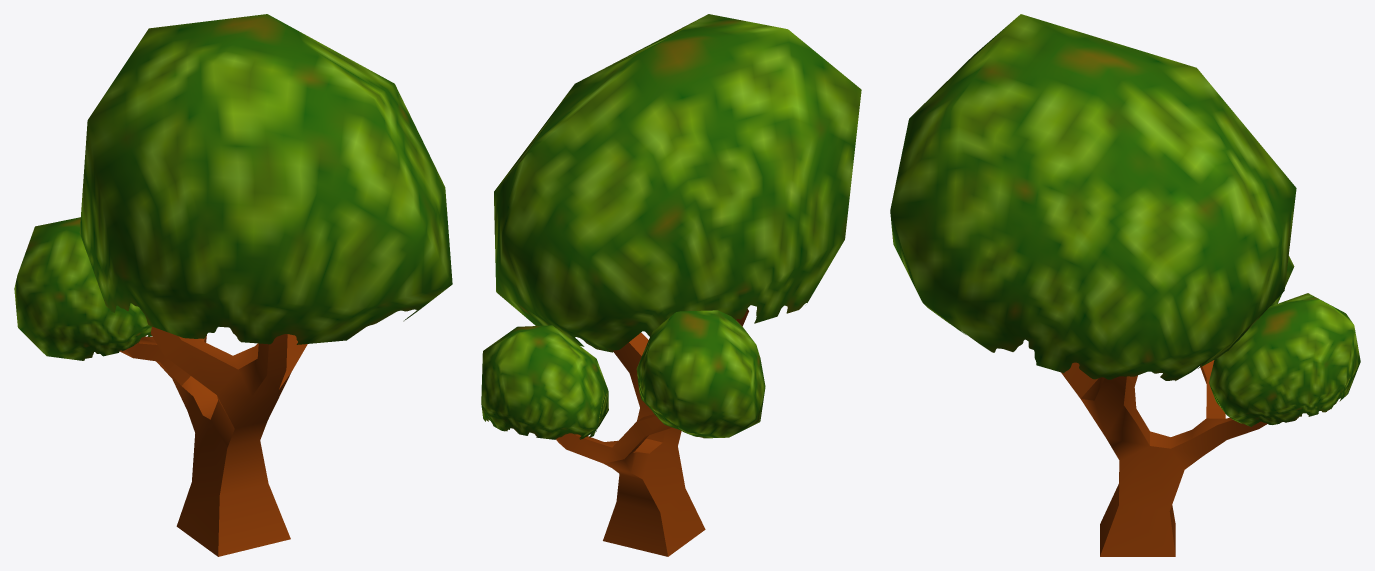
The model's file is SM_Tree_F01.fbx.
The picture shows the model from 3 angles, left to right: view 1: azimuth 30°, elevation 25°; view 2: azimuth 150°, elevation 25°; view 3: azimuth 270°, elevation 25°; orthographic projection. The views are drawn at different scales.
Parts seen in each view (by area): view 1: SM_Tree_F01; view 2: SM_Tree_F01; view 3: SM_Tree_F01.
Part boxes in pixels (x1,y1,x2,y2): SM_Tree_F01: [14, 14, 452, 556]; SM_Tree_F01: [481, 14, 861, 556]; SM_Tree_F01: [890, 14, 1360, 556].
Bounding box in the file's own units: 227 × 340 × 296.
